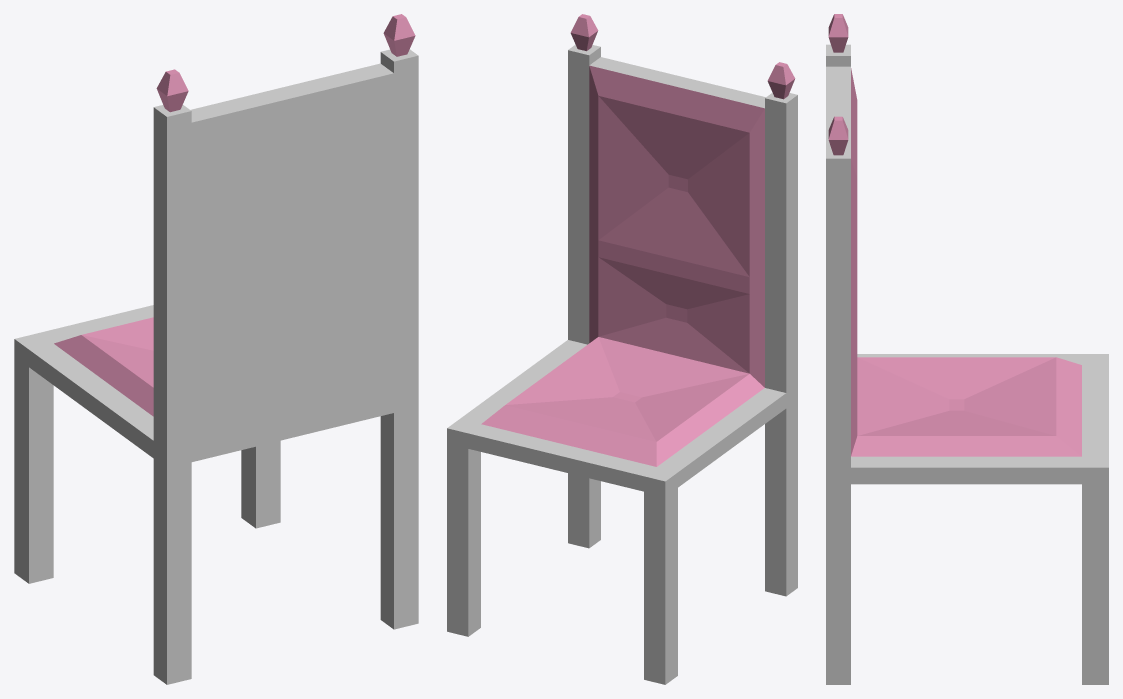
Rendered from Stul.fbx.
3 renders of one model, left to right at view 1: azimuth 30°, elevation 25°; view 2: azimuth 150°, elevation 25°; view 3: azimuth 270°, elevation 25°, orthographic. The views are drawn at different scales.
Parts seen in each view (by area): view 1: Cube; view 2: Cube; view 3: Cube.
Part boxes in pixels (x1,y1,x2,y2): Cube: (14, 14, 418, 684); Cube: (447, 14, 797, 684); Cube: (826, 14, 1108, 684).
Size of the model in its own units: 190 by 437 by 200.
